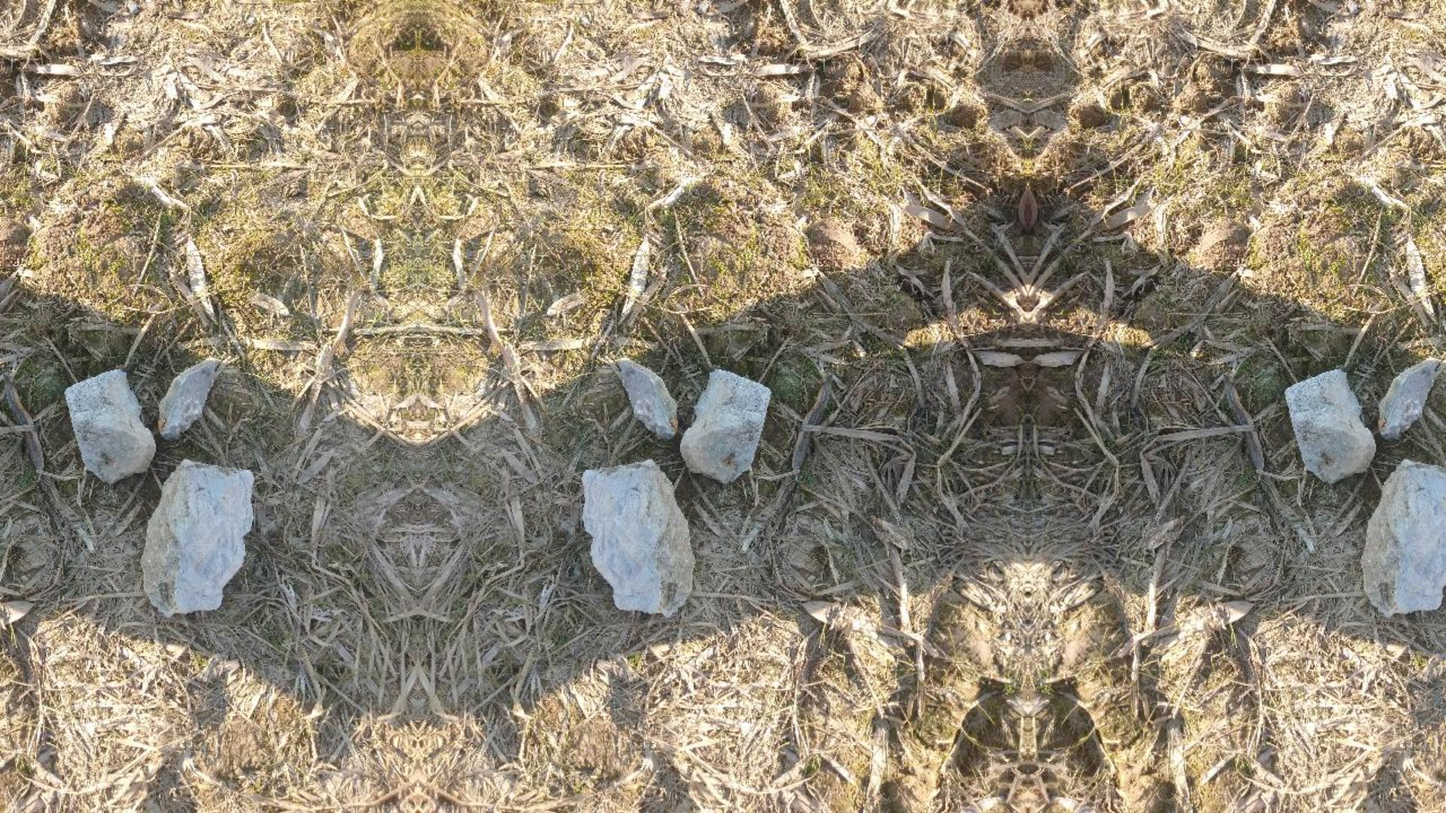rock: (582, 460, 694, 615), (141, 460, 252, 615), (1361, 460, 1445, 617), (64, 369, 155, 483), (680, 369, 770, 482), (1286, 369, 1375, 482), (1378, 358, 1441, 438), (158, 358, 219, 438), (618, 359, 677, 438)
